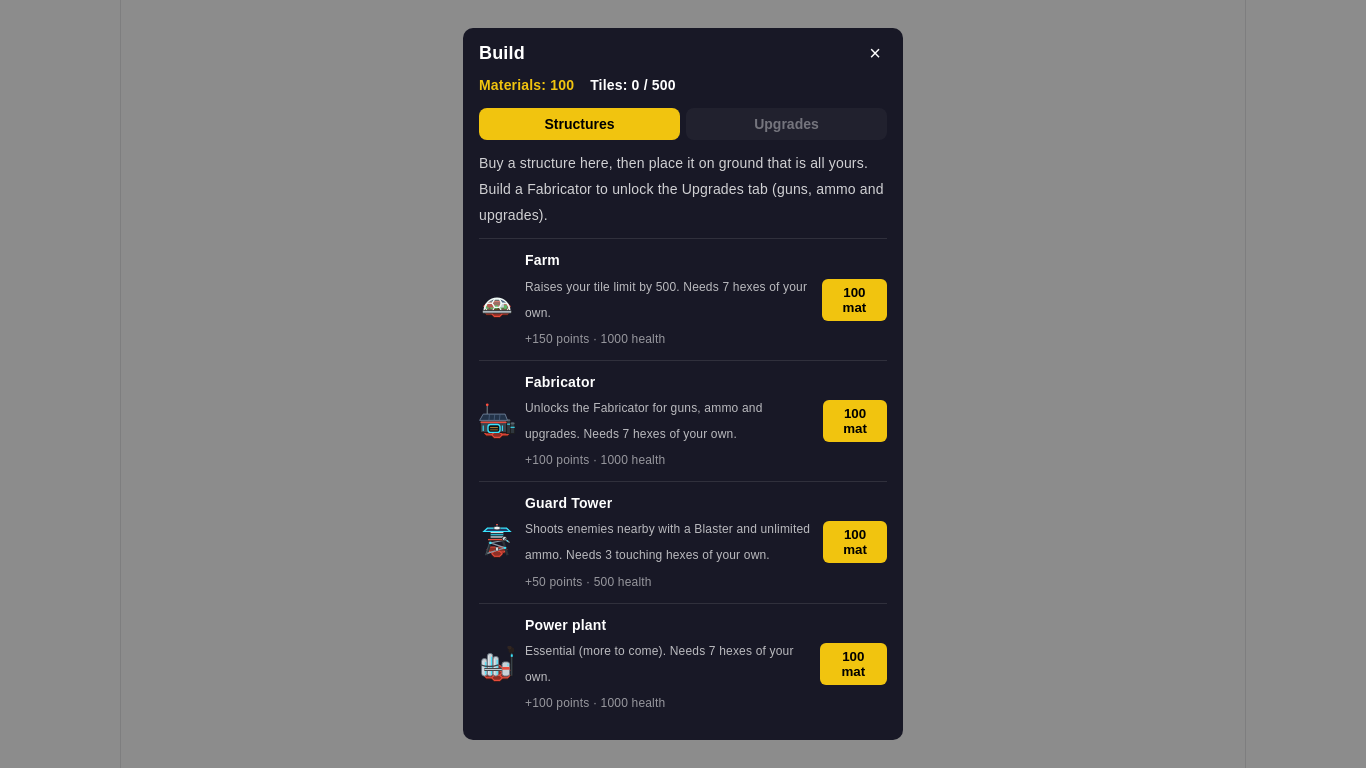
Test: BuildMenu › needs no Fabricator: it is where you buy the first one
The width and height of the screenshot is (1366, 768).
Click the 2nd button "100 mat": click(855, 421) left=823, top=400, right=887, bottom=442
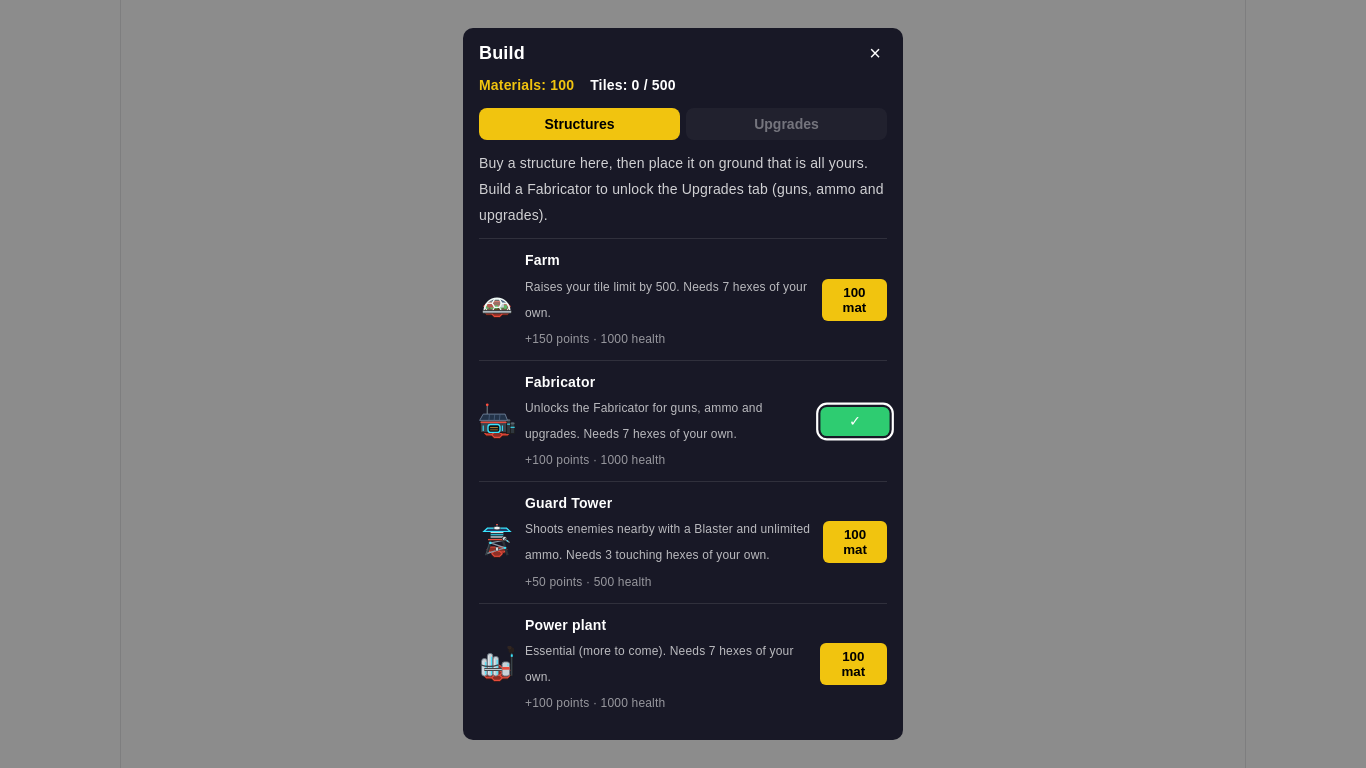
Expected: the button "✓" is shown, left=820, top=406, right=890, bottom=436
